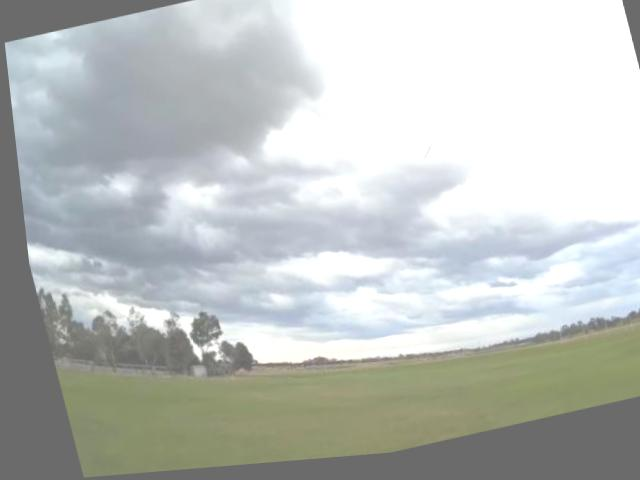uav: (408, 132, 441, 173)
